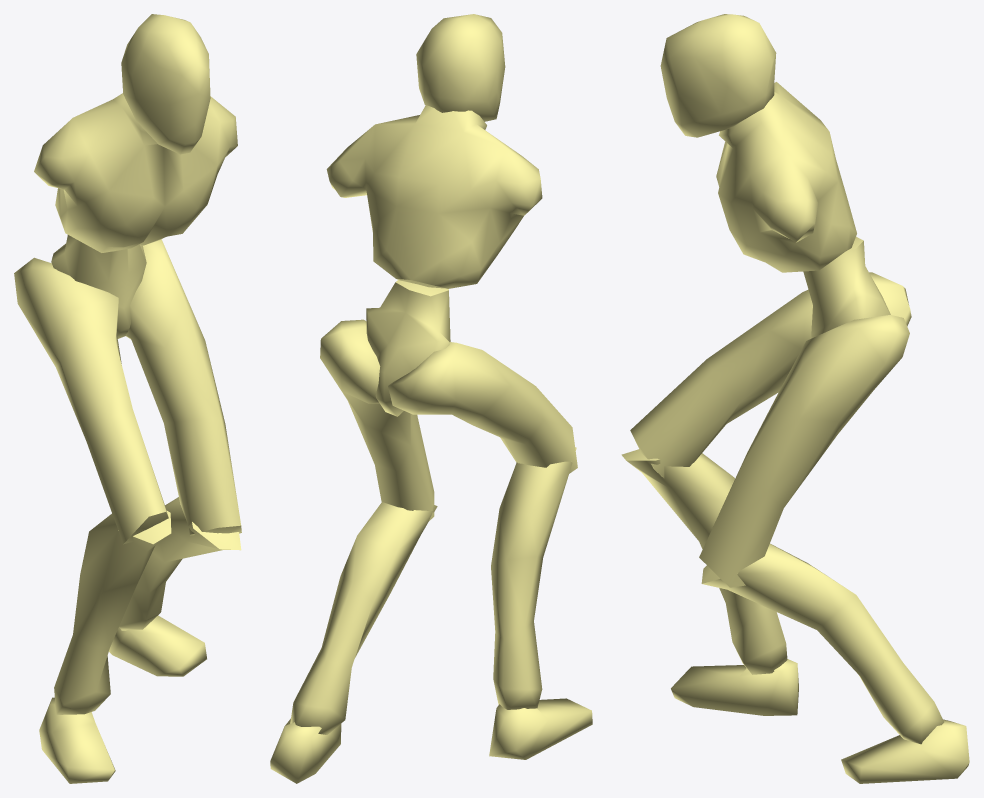
Rendered from filth66.obj.
3 renders of one model, left to right at view 1: azimuth 30°, elevation 25°; view 2: azimuth 150°, elevation 25°; view 3: azimuth 270°, elevation 25°, orthographic. The views are drawn at different scales.
Visible parts, largest first — view 1: Melee_Husk; view 2: Melee_Husk; view 3: Melee_Husk.
Part boxes in pixels (x1,y1,x2,y2): Melee_Husk: (14, 14, 241, 783); Melee_Husk: (270, 14, 592, 783); Melee_Husk: (621, 14, 969, 783).
Bounding box in the file's own units: 22.16 × 69.12 × 29.81.
